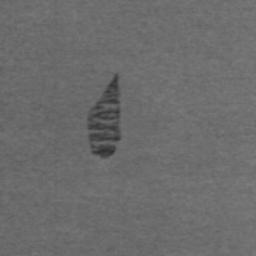Secondary rust skin: (87, 73, 121, 160)
